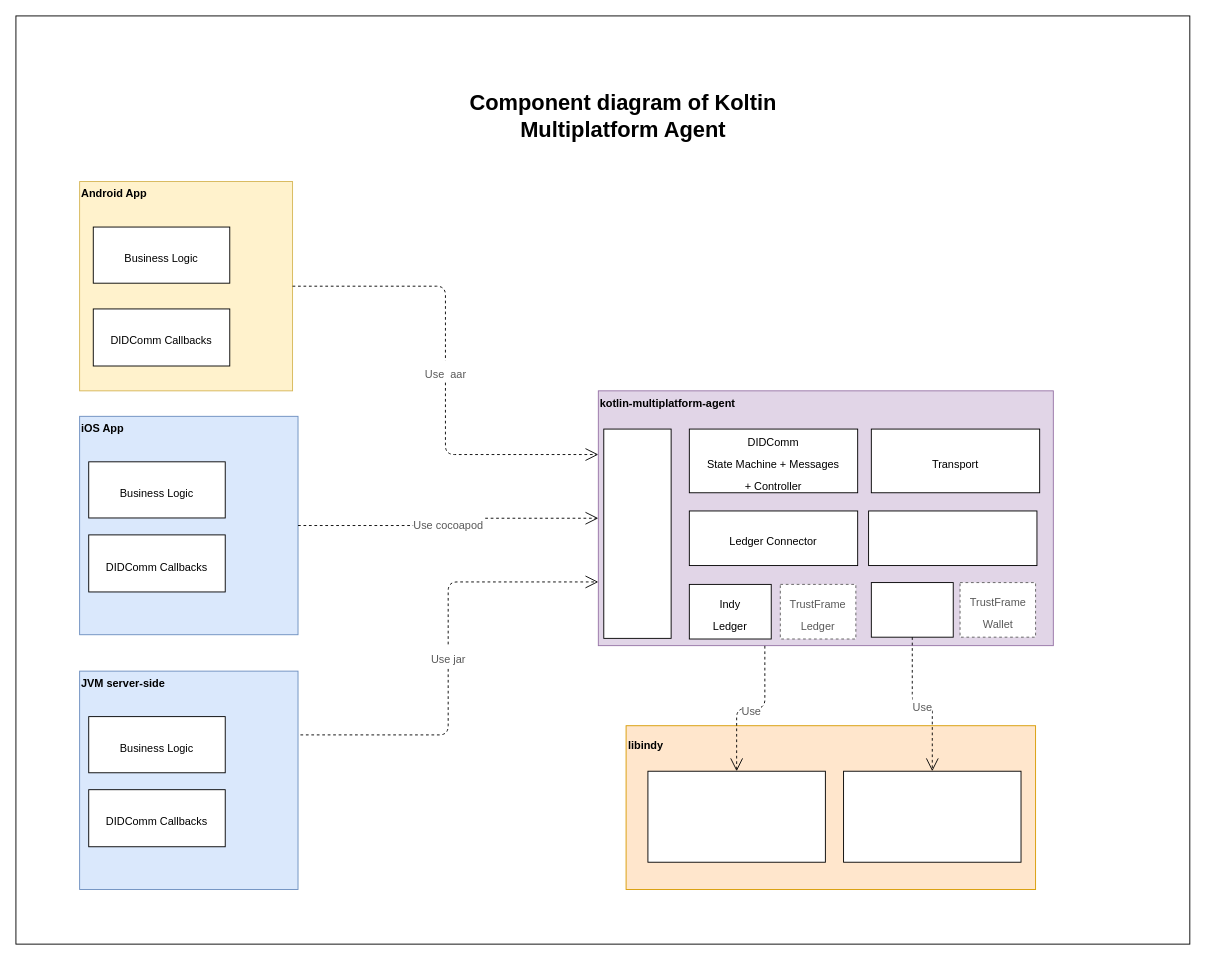
Image size: 1206x960. Some labels were removed from this diagram. Each missing label, with the centre of its shape:
"API" goes at (637,533).
"Indy Wallet" goes at (911,609).
"Ledger" goes at (932,816).
"Wallet" goes at (736,816).
"Wallet Connector" goes at (952,538).
